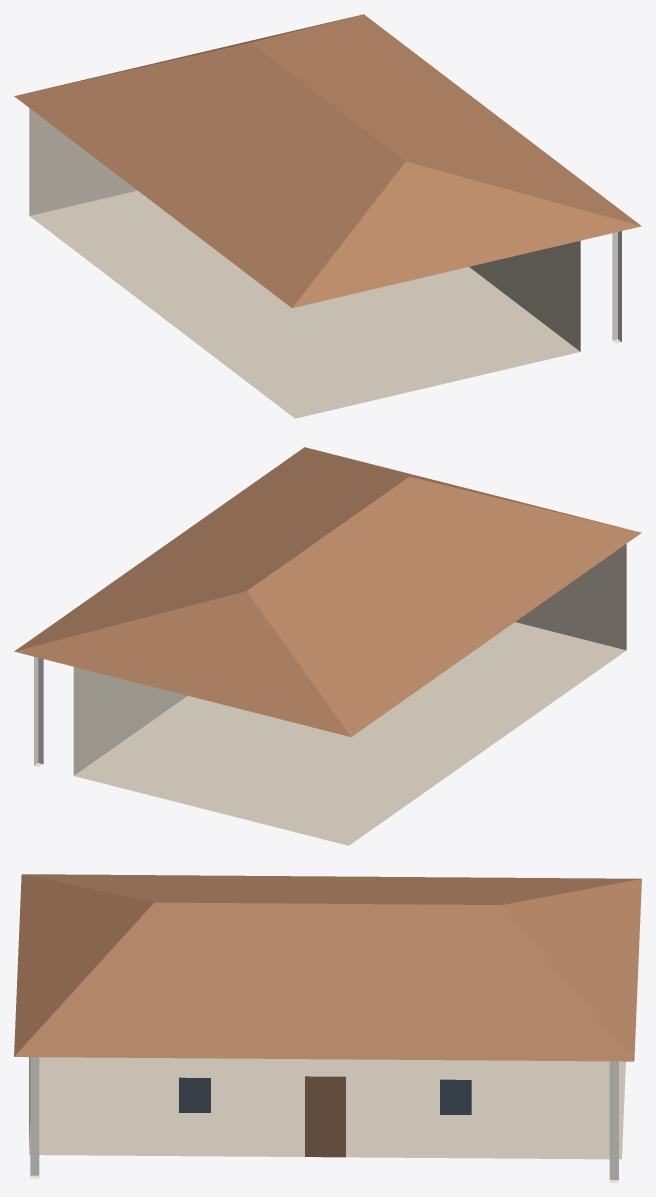
File: para_house_b.glb
3 renders of one model, top to bottom at view 1: azimuth 30°, elevation 25°; view 2: azimuth 150°, elevation 25°; view 3: azimuth 270°, elevation 25°, orthographic. The views are drawn at different scales.
Parts seen in each view (by area): view 1: para_house_b_lod0; view 2: para_house_b_lod0; view 3: para_house_b_lod0.
Part boxes in pixels (bbox=[...]): para_house_b_lod0: bbox=[14, 14, 641, 418]; para_house_b_lod0: bbox=[14, 447, 641, 845]; para_house_b_lod0: bbox=[14, 874, 641, 1182].
Size of what is drawn, in the model's own units: 9.73 by 4.65 by 13.77.
